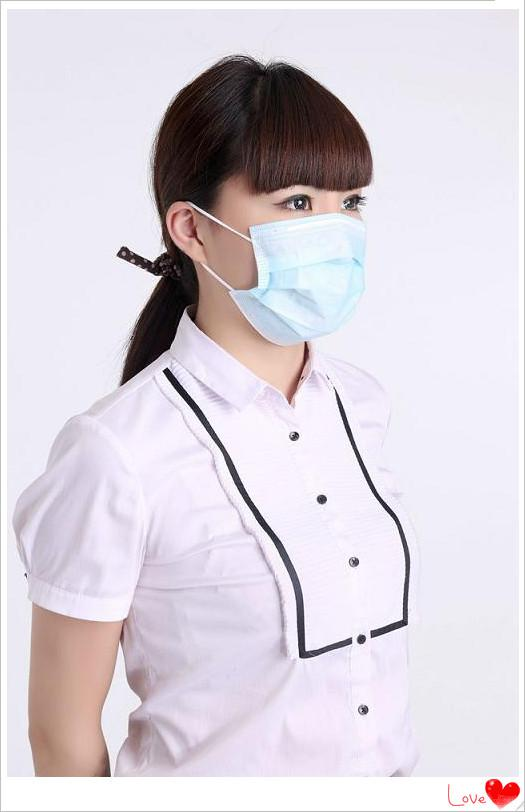OK: (193, 179, 371, 349)
